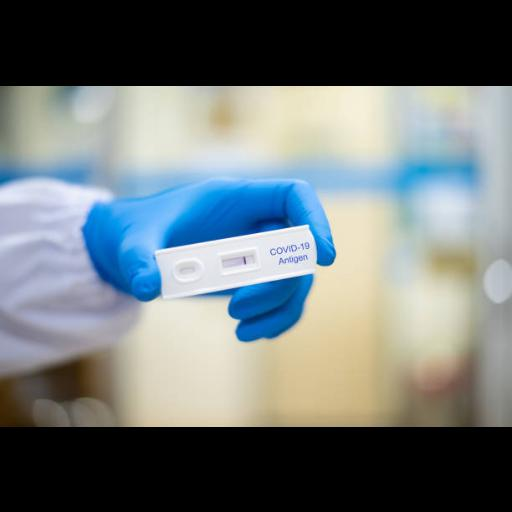Neg: (154, 223, 321, 301)
